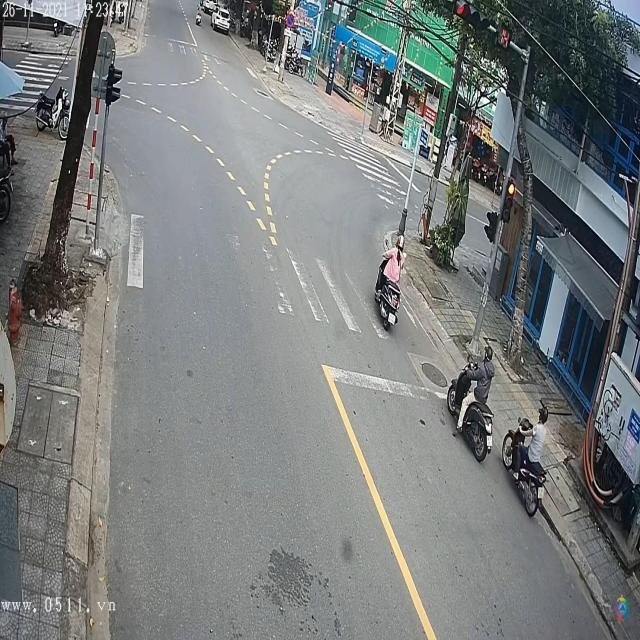motorcycle: (447, 364, 496, 466), (503, 414, 548, 516), (375, 266, 401, 332)
